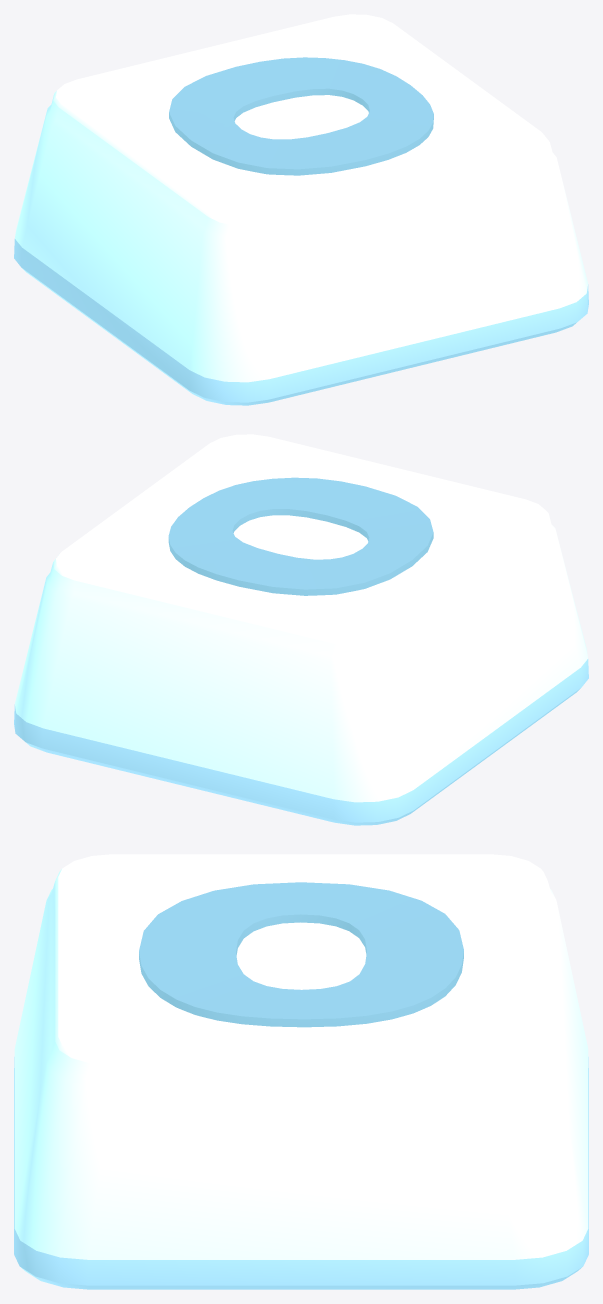
The model's file is props__Key_O.glb.
3 renders of one model, top to bottom at view 1: azimuth 30°, elevation 25°; view 2: azimuth 150°, elevation 25°; view 3: azimuth 270°, elevation 25°, orthographic. The views are drawn at different scales.
Parts seen in each view (by area): view 1: Key_O; view 2: Key_O; view 3: Key_O.
Boxes of the visible parts, <box> form: Key_O: <box>14,14,588,405</box>; Key_O: <box>14,434,588,825</box>; Key_O: <box>14,854,588,1289</box>.
Bounding box in the file's own units: 3.9 × 1.65 × 3.9.
